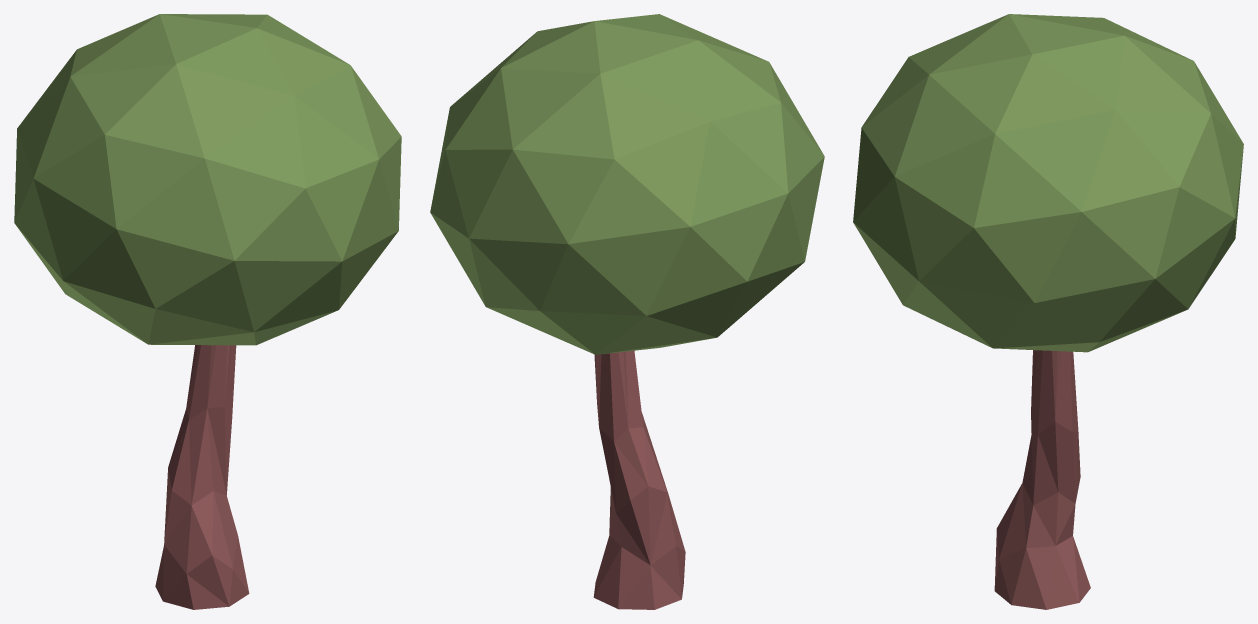
File: Poplar Tree_7.fbx
3 renders of one model, left to right at view 1: azimuth 30°, elevation 25°; view 2: azimuth 150°, elevation 25°; view 3: azimuth 270°, elevation 25°, orthographic.
Parts seen in each view (by area): view 1: Poplar Tree_7; view 2: Poplar Tree_7; view 3: Poplar Tree_7.
Boxes of the visible parts, left/top/right/bottom form: Poplar Tree_7: left=14, top=14, right=401, bottom=609; Poplar Tree_7: left=430, top=14, right=824, bottom=609; Poplar Tree_7: left=853, top=14, right=1243, bottom=609.
Size of the model in its own units: 3.09 by 4.88 by 3.09.
